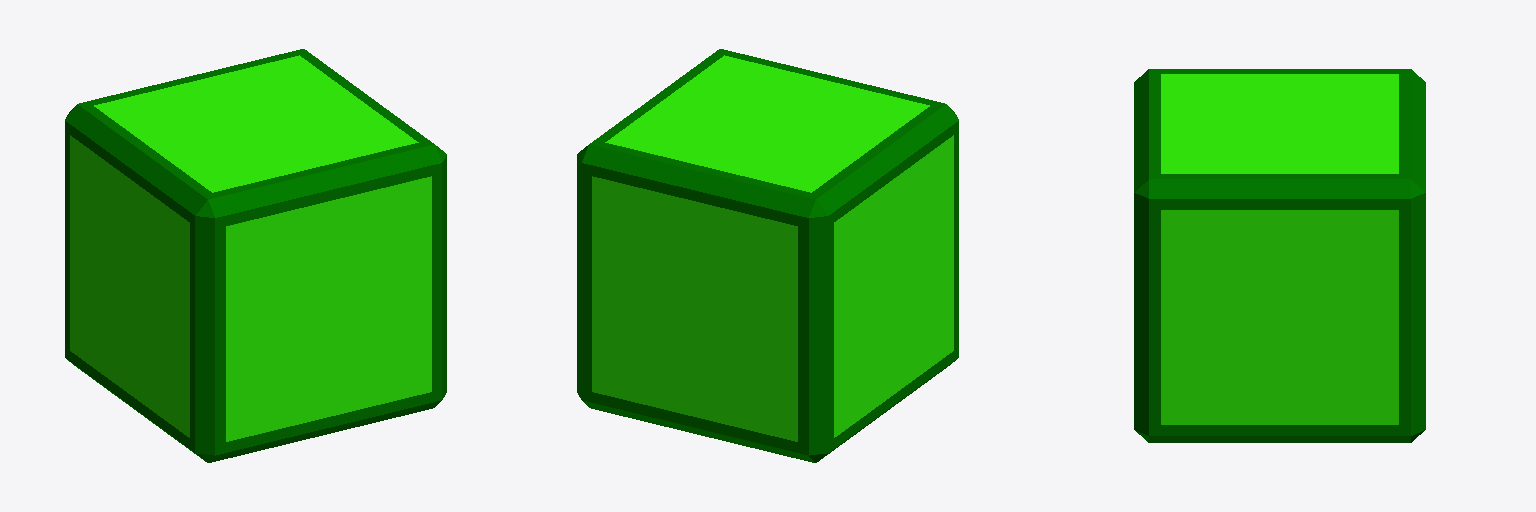
The model's file is fig5_cub_green.obj.
3 renders of one model, left to right at view 1: azimuth 30°, elevation 25°; view 2: azimuth 150°, elevation 25°; view 3: azimuth 270°, elevation 25°, orthographic.
Visible parts, largest first — view 1: Cube; view 2: Cube; view 3: Cube.
Part boxes in pixels (bbox=[...]): Cube: bbox=[65, 49, 446, 462]; Cube: bbox=[577, 49, 958, 462]; Cube: bbox=[1134, 69, 1425, 442].
Bounding box in the file's own units: 2 × 2 × 2.